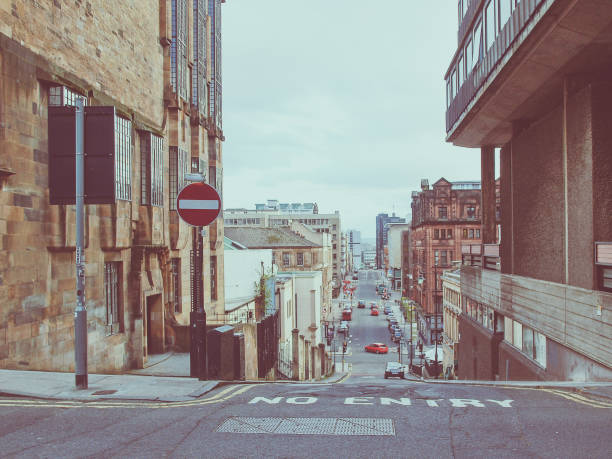Girilmez: (175, 184, 222, 229)
